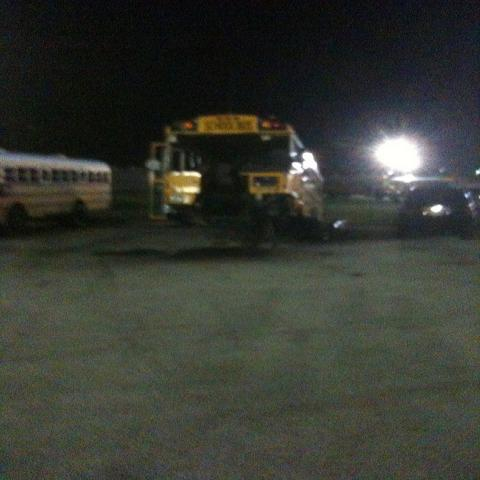bus: (160, 116, 320, 230), (2, 150, 112, 219)
car: (392, 181, 478, 238)
